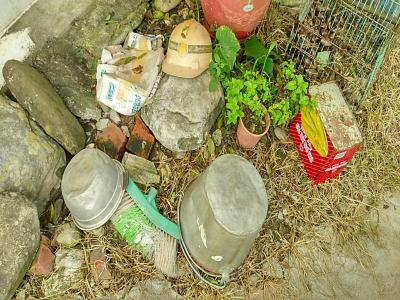bowl: (59, 144, 130, 233)
box: (287, 78, 365, 188)
bucket: (175, 150, 271, 279)
